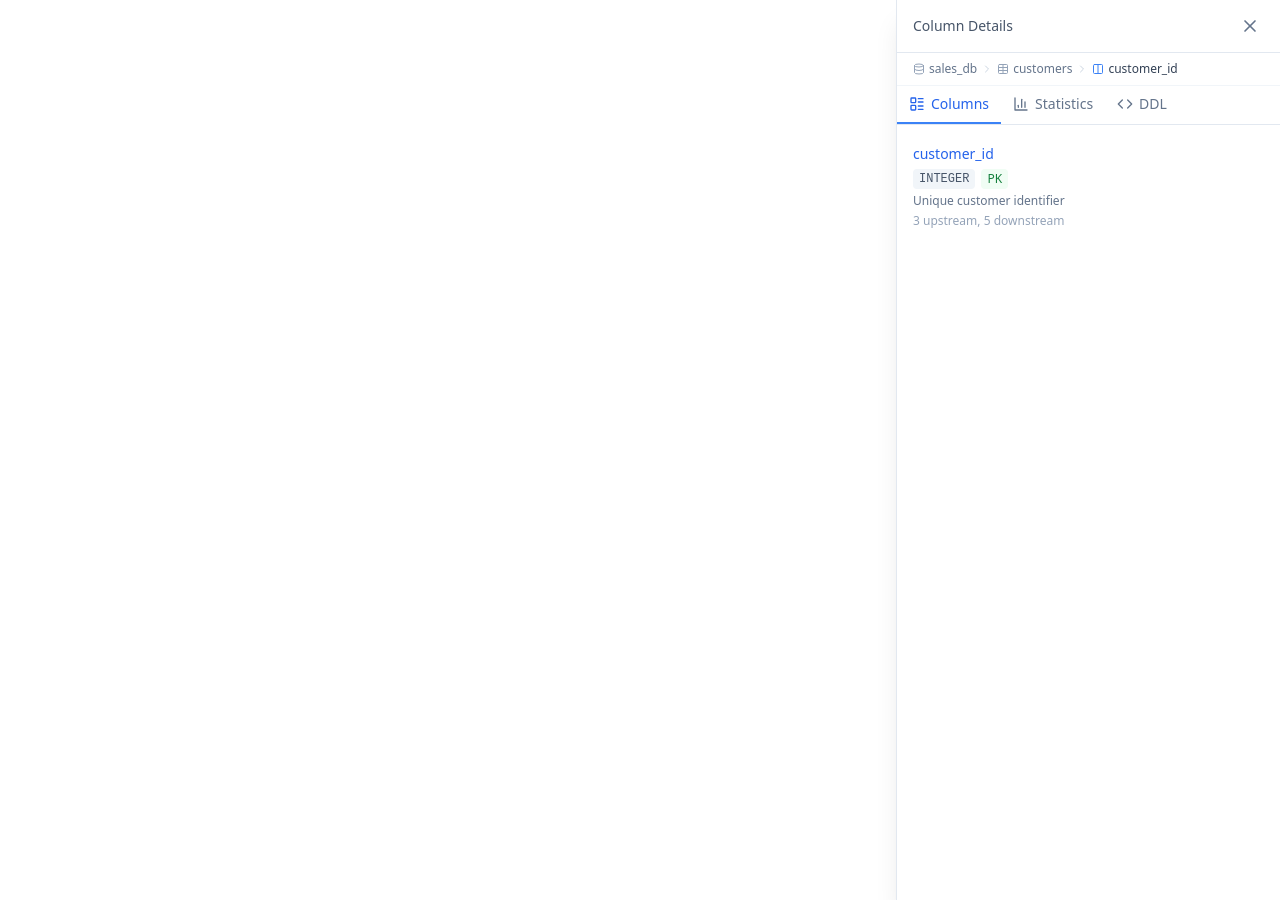
Test case: DetailPanel › TC-PANEL-01: Tab switching › returns to Columns content when switching back
# Switch to Statistics then back
Click the tab "Statistics". click: (1053, 105)
box: [1001,86,1105,124]
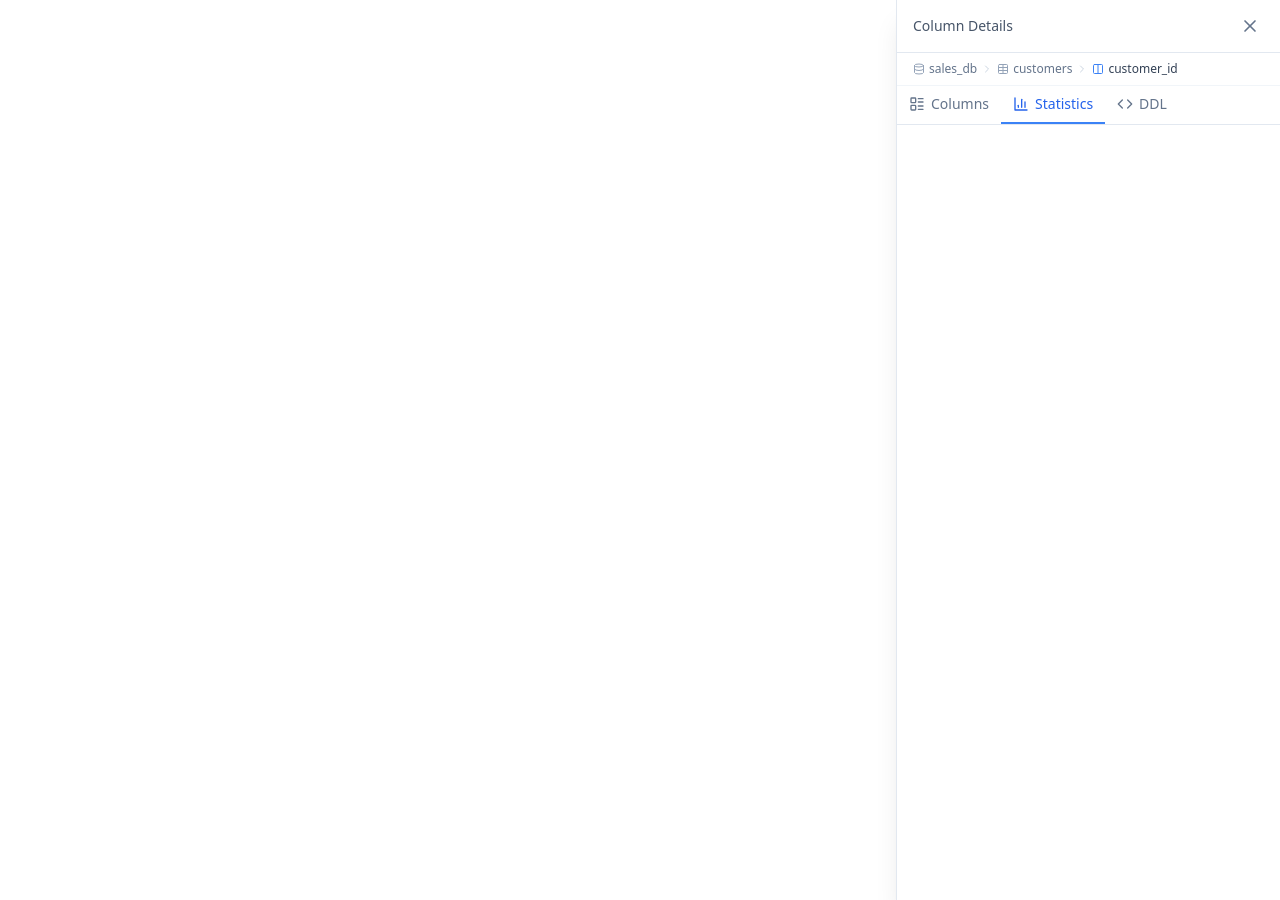
Click the tab "Columns". click: (949, 105)
box: [897,86,1001,124]
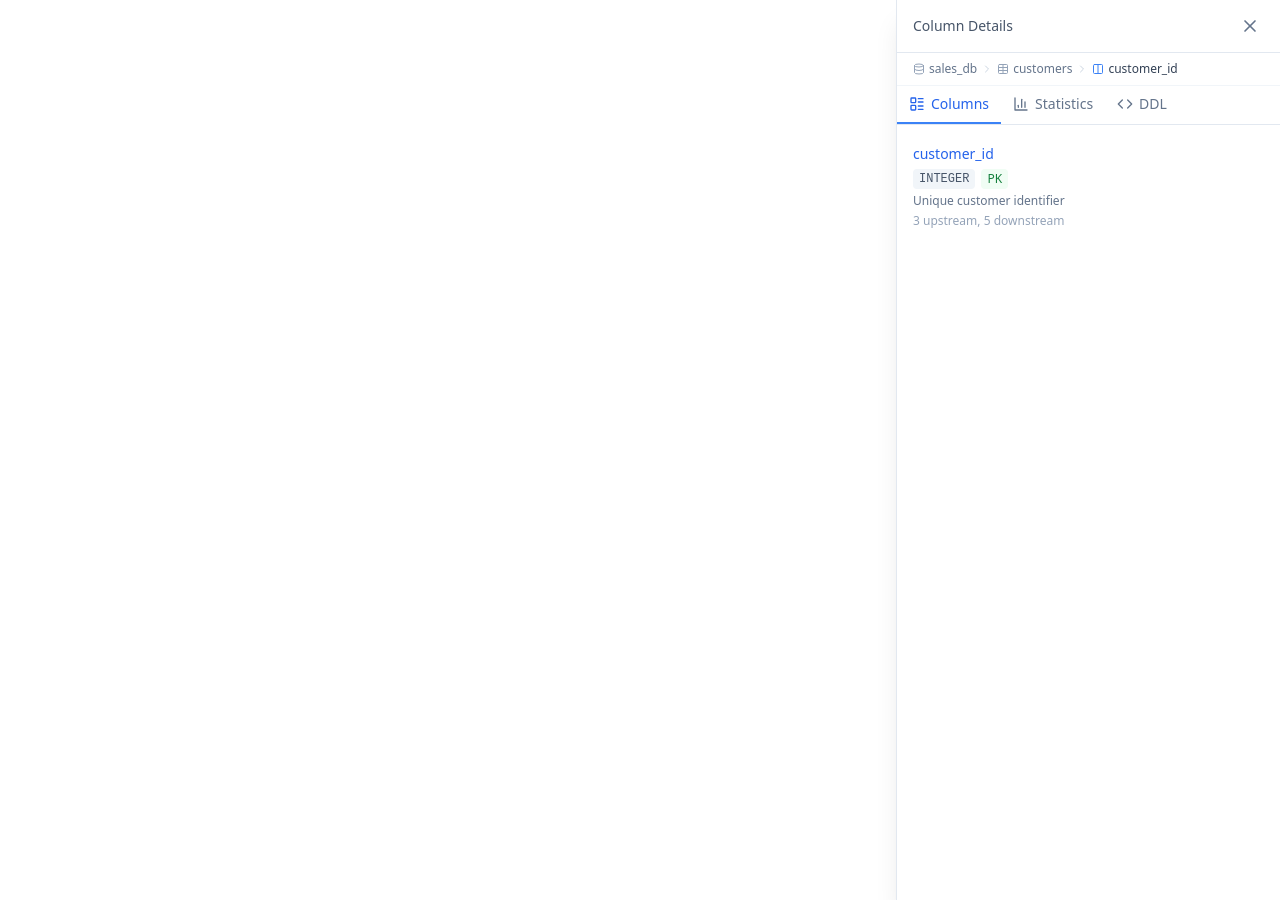
Expected: the button titled "View lineage for customer_id" is shown, [913,144,994,164]
